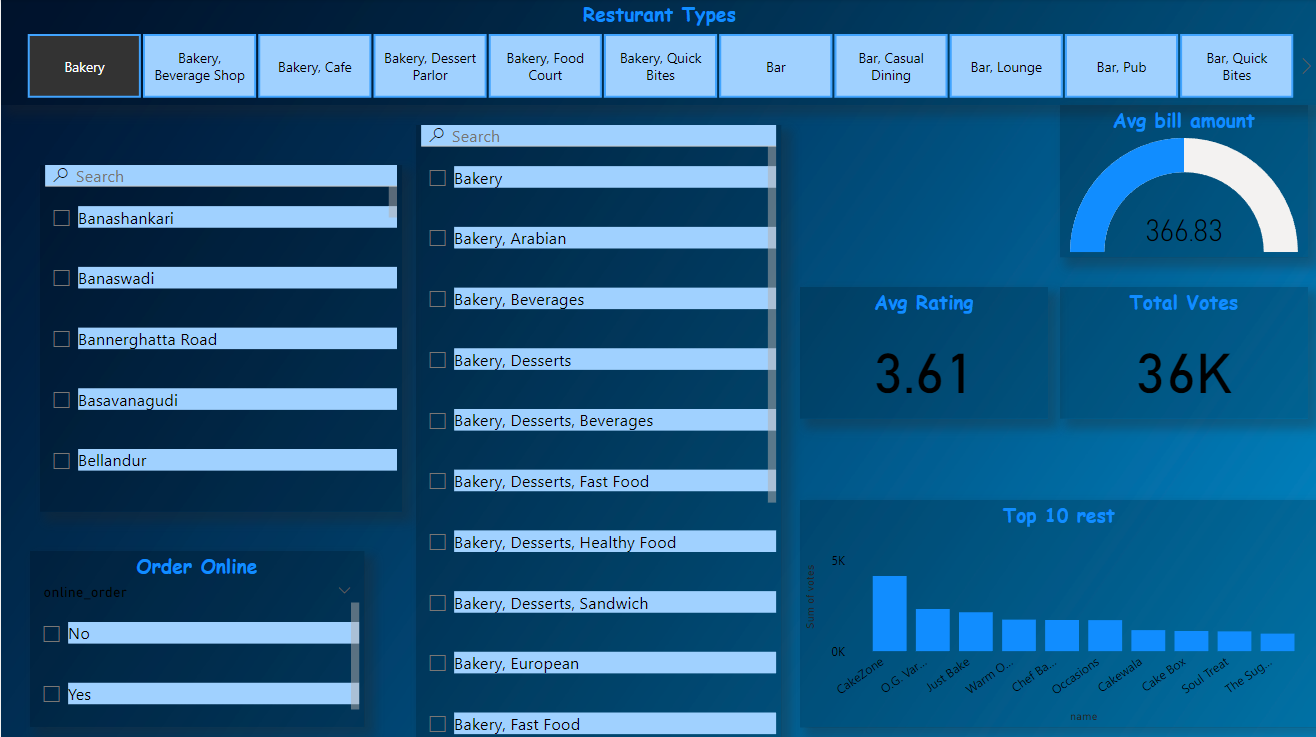

The page's visual inventory and layout, read from the dashboard file:
{"tool":"powerbi","page":{"name":"Page 1","canvas":[1280,720],"ordinal":0},"visuals":[{"type":"slicer","title":"Resturant Types","fields":{"Values":["zomato.rest_type"]},"box":[0,0,1280,103],"z":0},{"type":"gauge","title":"Avg bill amount","fields":{"Y":["Avg(zomato.approx_cost(for two people))"]},"box":[1029.2,103,241,147.7],"z":1000},{"type":"card","title":"Total Votes","fields":{"Values":["Sum(zomato.votes)"]},"box":[1029.2,279.9,241,128.3],"z":2000},{"type":"card","title":"Avg Rating","fields":{"Values":["Avg(zomato.rate)"]},"box":[776.6,279.9,241,128.3],"z":3000},{"type":"columnChart","title":"Top 10 rest","fields":{"Category":["zomato.name"],"Y":["Sum(zomato.votes)"]},"box":[776.6,486.9,503.4,220.6],"z":4000},{"type":"slicer","title":"Order Online","fields":{"Values":["zomato.online_order"]},"box":[28.2,536.5,324.6,171.1],"z":5000},{"type":"slicer","fields":{"Values":["zomato.location"]},"box":[37.9,161.3,351.8,337.3],"z":6000},{"type":"slicer","fields":{"Values":["zomato.cuisines"]},"box":[403.3,122.5,354.7,597.7],"z":7000}]}

Visuals, with their boxes in screenshot pixels (x1, y1, x2, y2), scaled from the page's 1280x720 canvas onto the 1316x737 screenshot:
"Resturant Types" slicer: (left=0, top=0, right=1315, bottom=105)
"Avg bill amount" gauge: (left=1058, top=105, right=1306, bottom=257)
"Total Votes" card: (left=1058, top=287, right=1306, bottom=418)
"Avg Rating" card: (left=798, top=287, right=1046, bottom=418)
"Top 10 rest" columnChart: (left=798, top=498, right=1315, bottom=724)
"Order Online" slicer: (left=29, top=549, right=363, bottom=724)
slicer - zomato.location: (left=39, top=165, right=401, bottom=510)
slicer - zomato.cuisines: (left=415, top=125, right=779, bottom=736)
